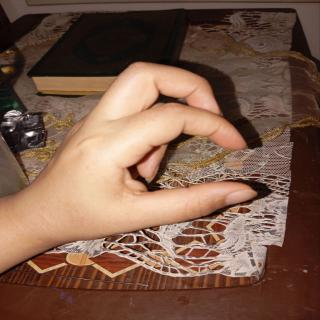DHELL: (22, 57, 268, 241)
